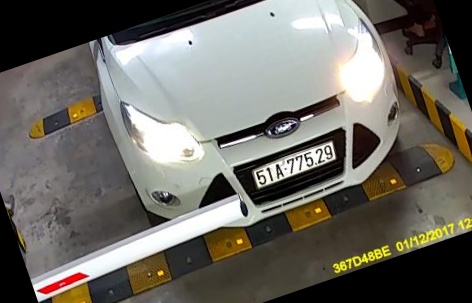plate: (252, 136, 334, 191)
